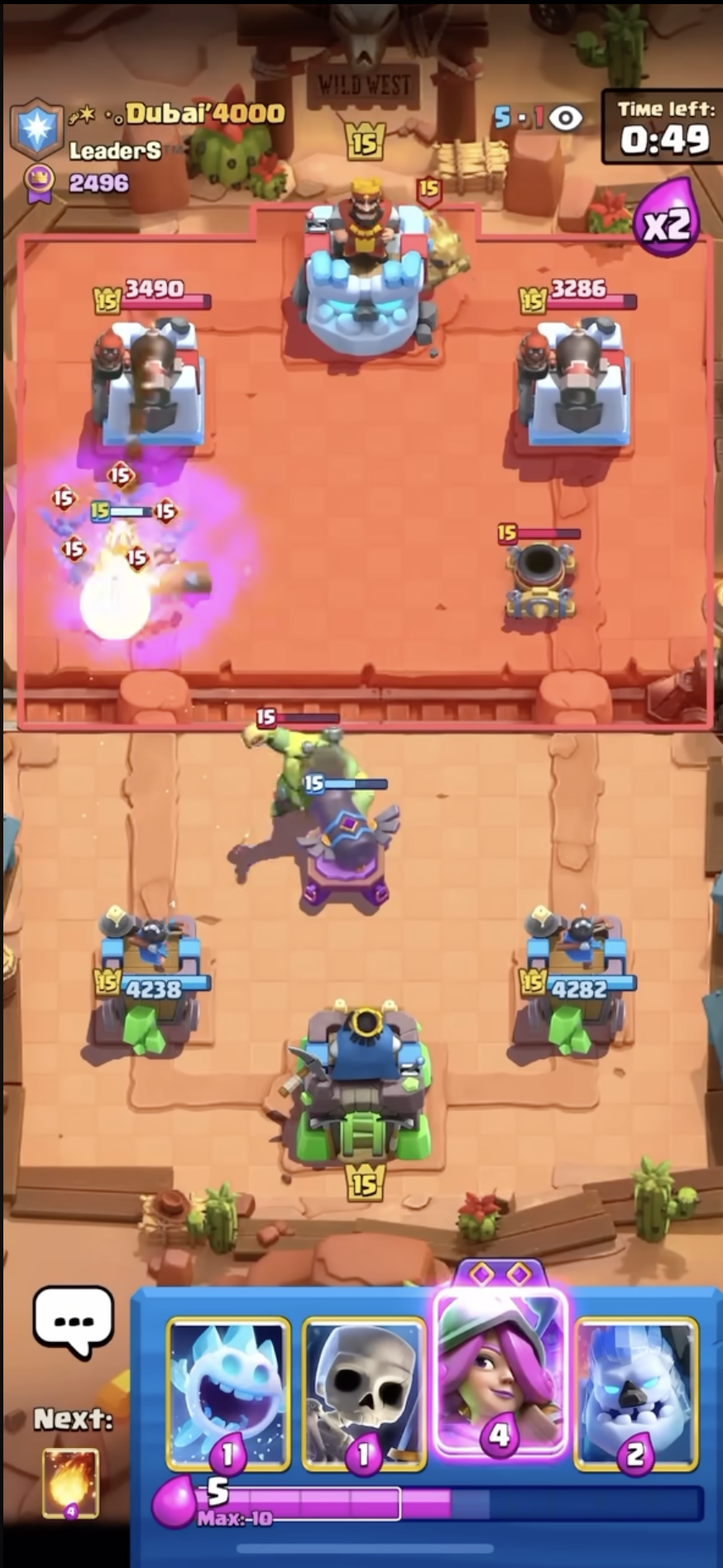evo-cannon: (287, 764, 405, 917)
